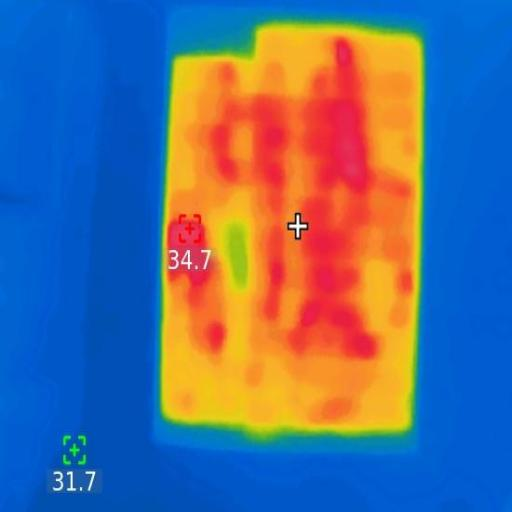hotspot: (304, 206, 367, 355), (327, 40, 364, 192), (250, 102, 292, 214), (208, 69, 245, 194), (170, 218, 213, 288)
